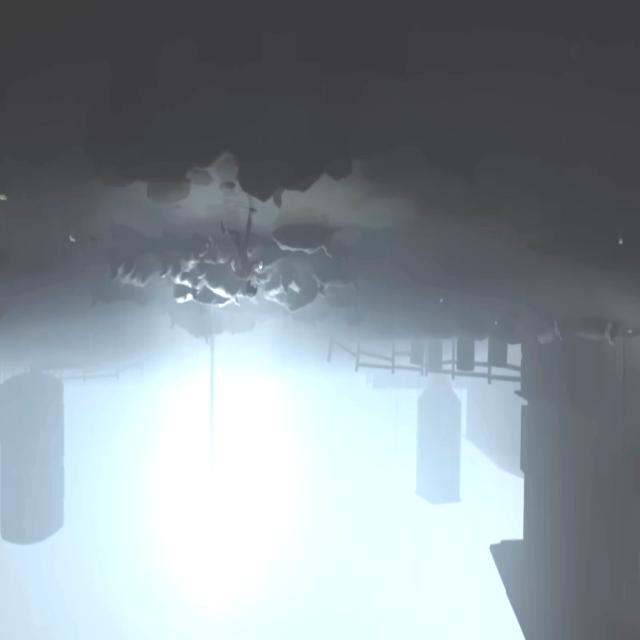boy: (221, 207, 263, 296)
